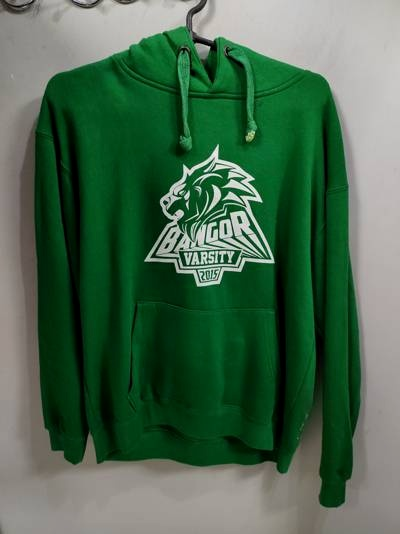Hoodie: (11, 21, 384, 515)
